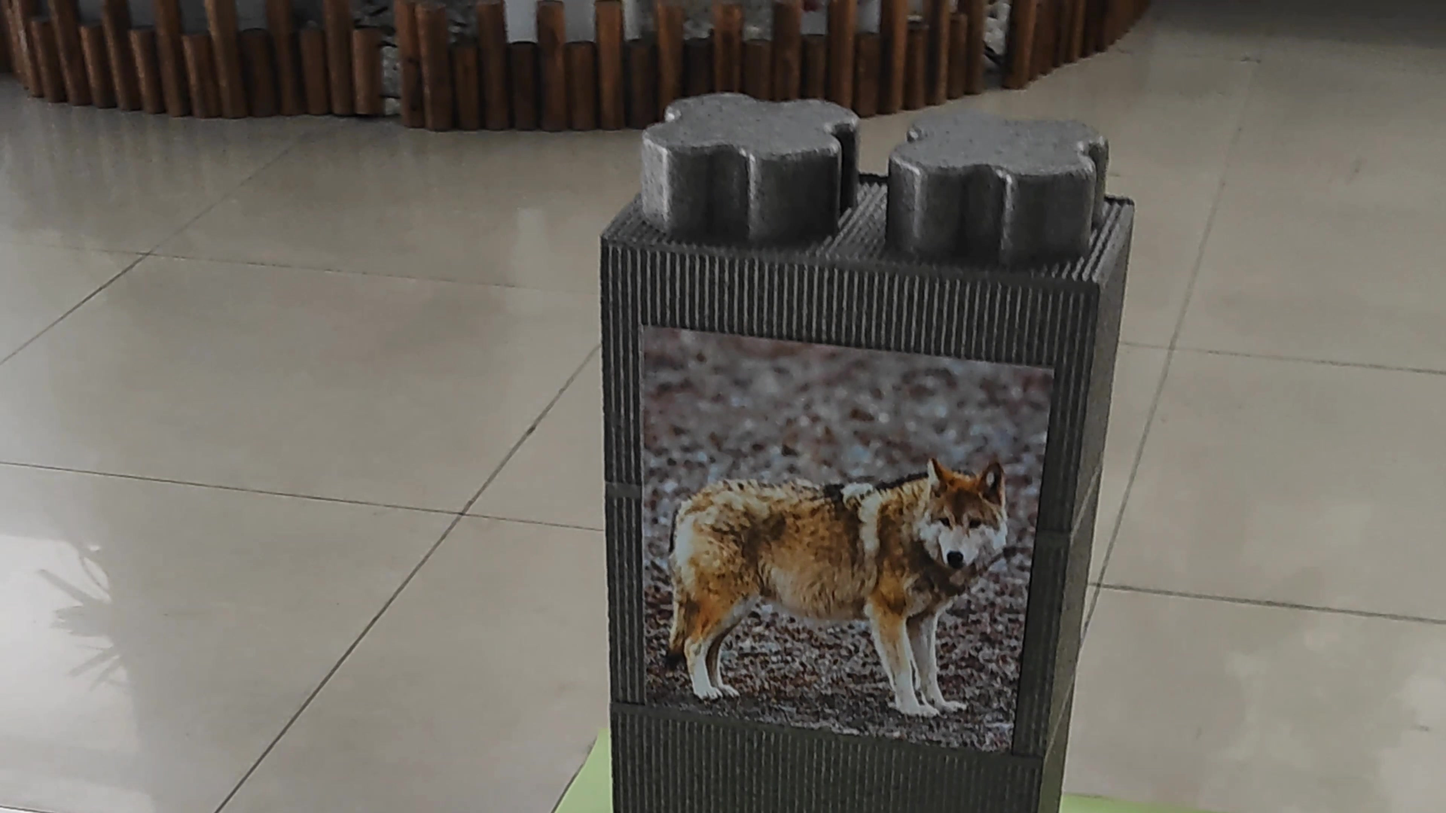wolf: (639, 406, 1004, 742)
